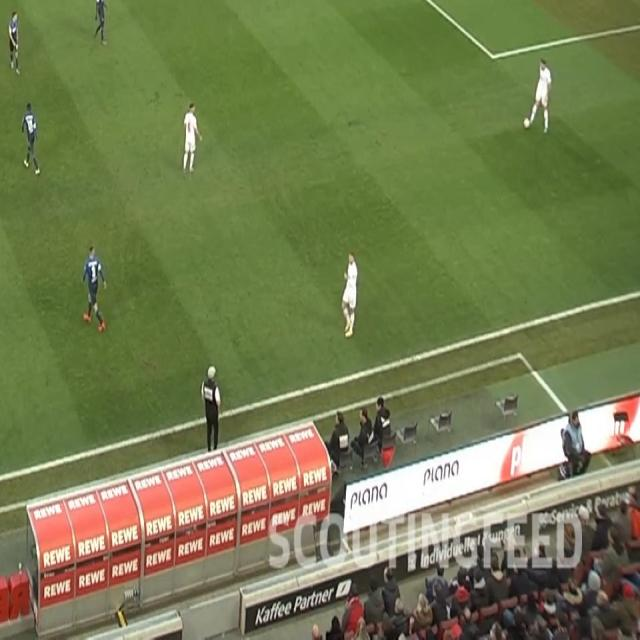ball: (523, 116, 531, 130)
